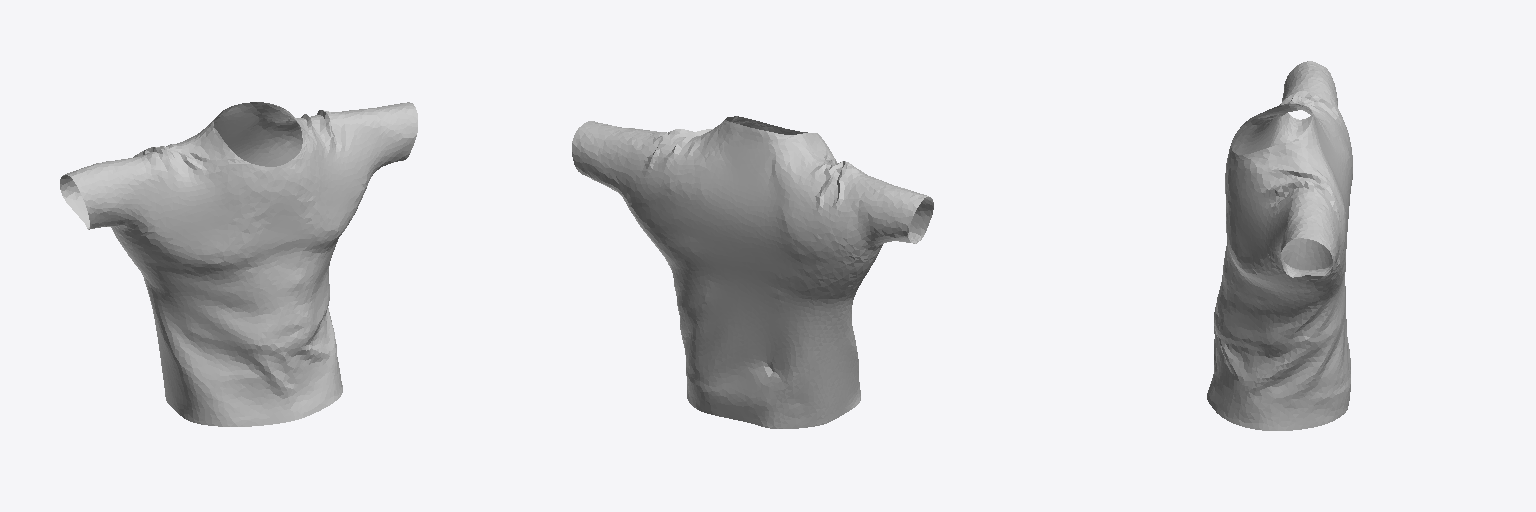
File: master_tshirt_new_uv.obj
3 renders of one model, left to right at view 1: azimuth 30°, elevation 25°; view 2: azimuth 150°, elevation 25°; view 3: azimuth 270°, elevation 25°, orthographic.
Visible parts, largest first — view 1: master_tshirt; view 2: master_tshirt; view 3: master_tshirt.
Boxes of the visible parts, box(x1,y1,x2,y2) form: master_tshirt: box(60, 102, 417, 426); master_tshirt: box(572, 116, 933, 428); master_tshirt: box(1207, 61, 1352, 430).
Bounding box in the file's own units: 812 × 632 × 300.